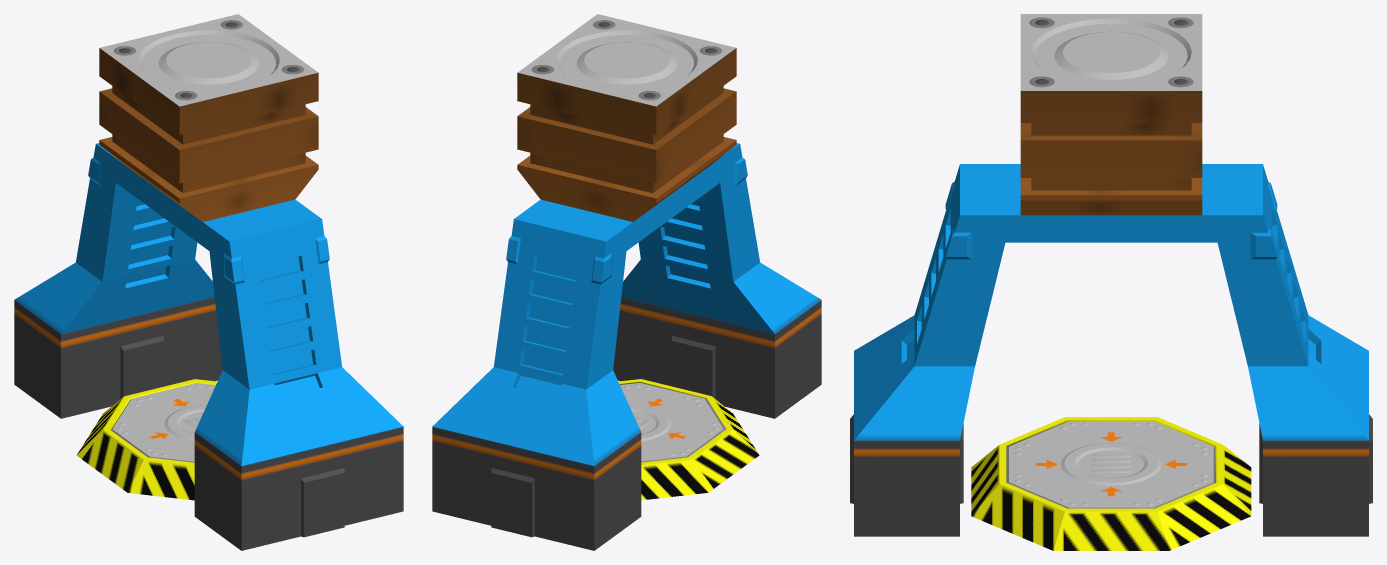
Rendered from destroy1.gltf.
The picture shows the model from 3 angles, left to right: view 1: azimuth 30°, elevation 25°; view 2: azimuth 150°, elevation 25°; view 3: azimuth 270°, elevation 25°; orthographic projection. The views are drawn at different scales.
Parts seen in each view (by area): view 1: destroy1; view 2: destroy1; view 3: destroy1.
Boxes of the visible parts, <box> form: destroy1: <box>14,14,403,550</box>; destroy1: <box>432,14,821,550</box>; destroy1: <box>850,14,1372,550</box>.
Size of the model in its own units: 18.48 by 32.11 by 34.5.
